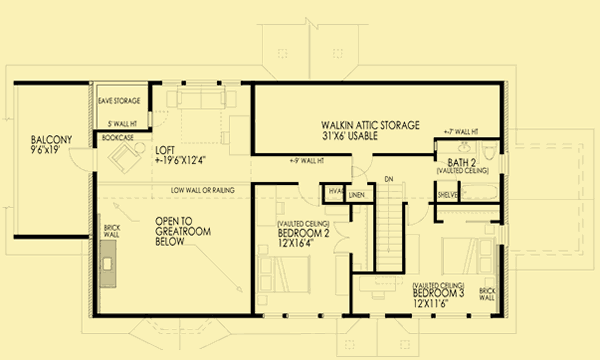bed: (439, 237, 494, 278), (257, 255, 310, 295)
door: (66, 145, 95, 174), (297, 183, 323, 211), (405, 200, 430, 228), (348, 155, 376, 179), (333, 219, 351, 255)
large_sink: (480, 140, 498, 162)
large_sofa: (177, 86, 227, 112)
small_sink: (437, 137, 478, 154)
small_sofa: (107, 140, 143, 175)
stairs: (373, 178, 407, 273)
tub: (458, 181, 499, 201)
window: (159, 76, 241, 88), (410, 311, 494, 321), (261, 312, 343, 319)
